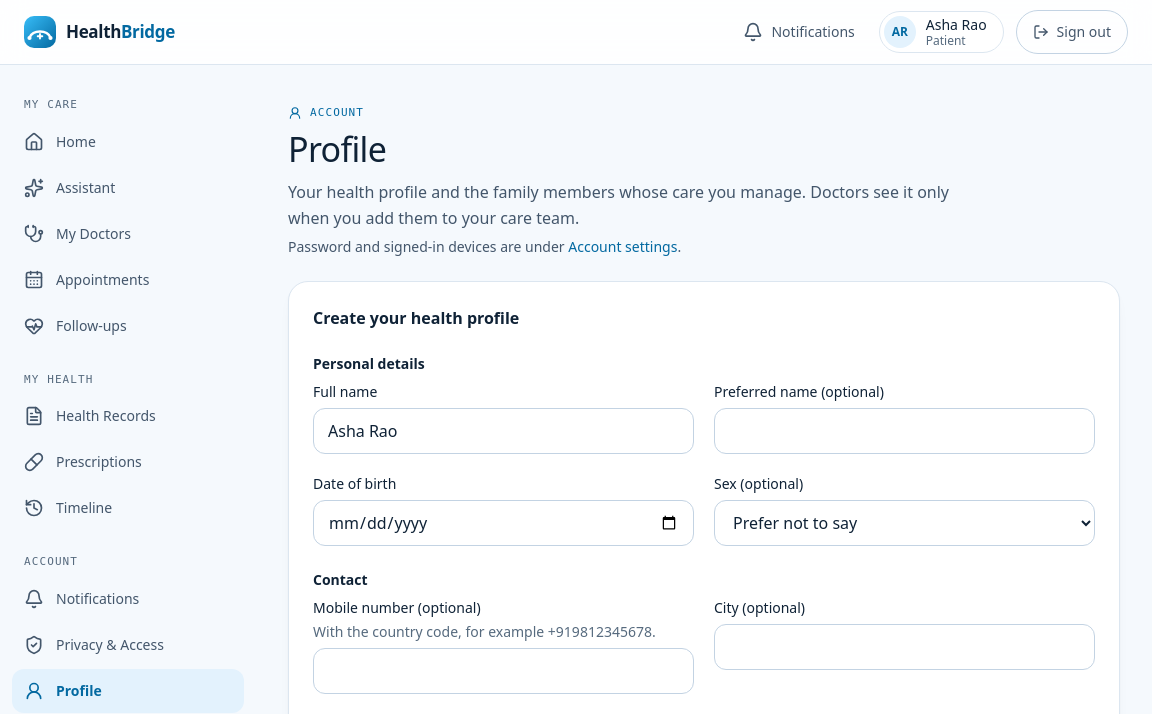
Test: patient profile › requires both emergency contact name and phone
Expected: the heading "Create your health profile" is shown, [313,307,519,329]
Type "1990-05-14" into the date field labelled "Date of birth" at [504, 523], box [313,500,694,546]
(page scrolled)
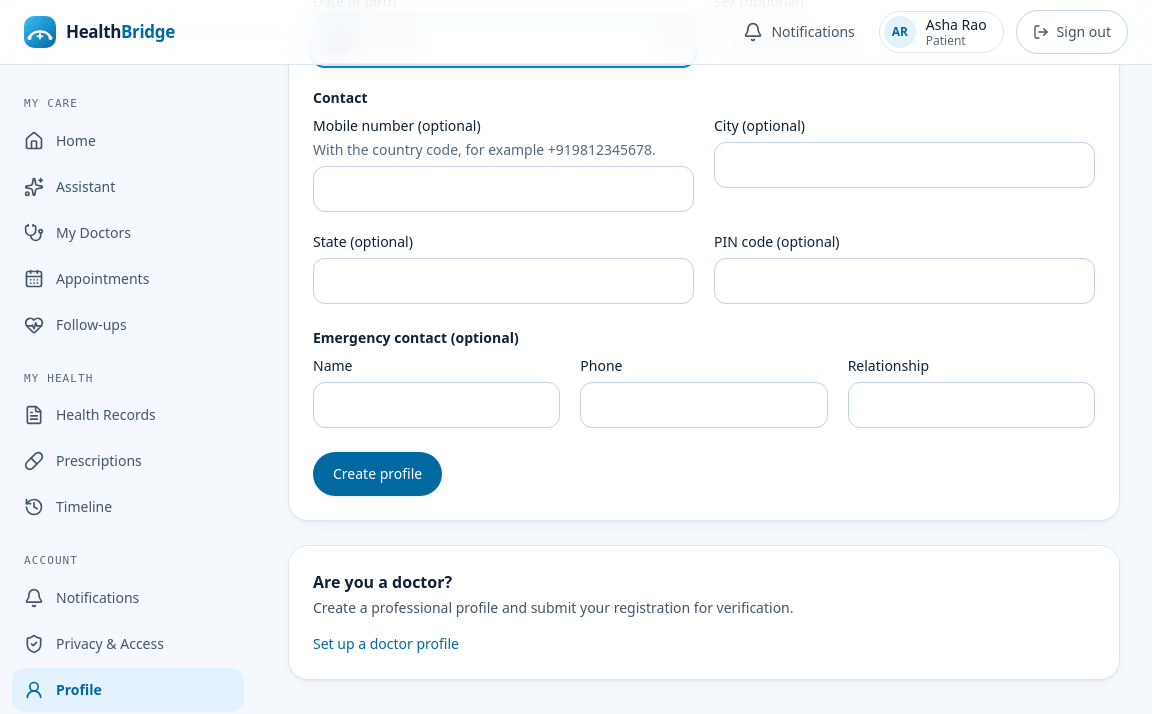
Type "Ravi" into the field labelled "Name" at [437, 405], box [313,382,560,428]
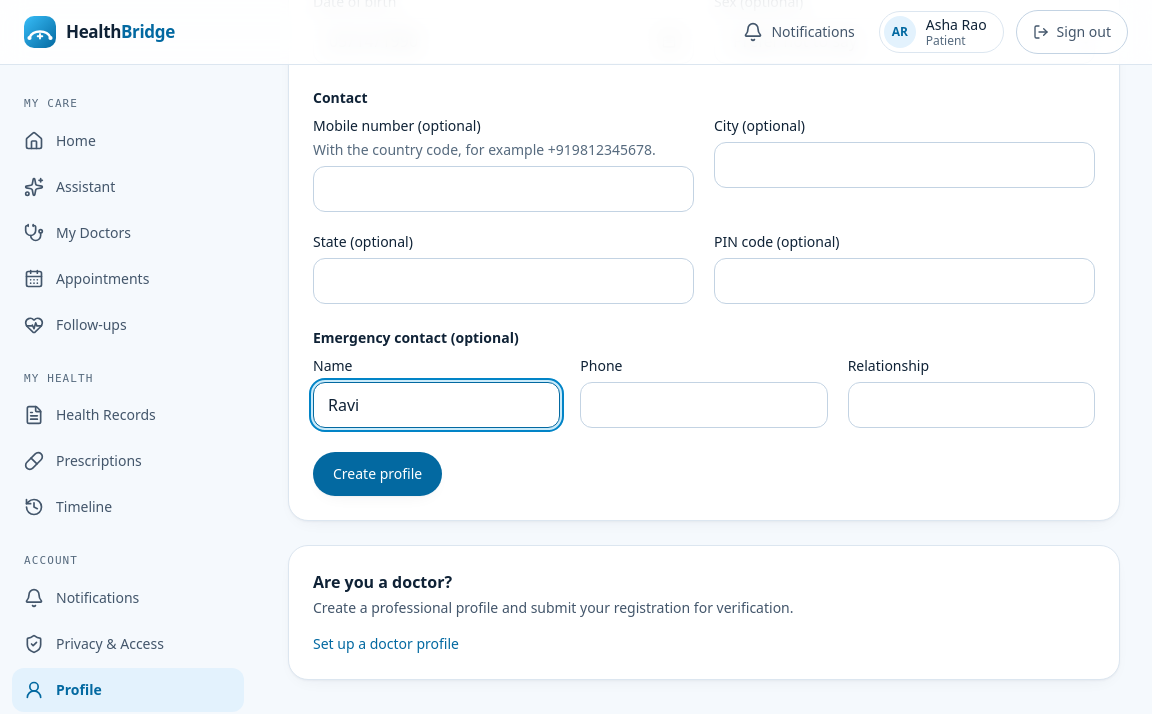
Click the button "Create profile" at [378, 474], box [313,452,442,496]
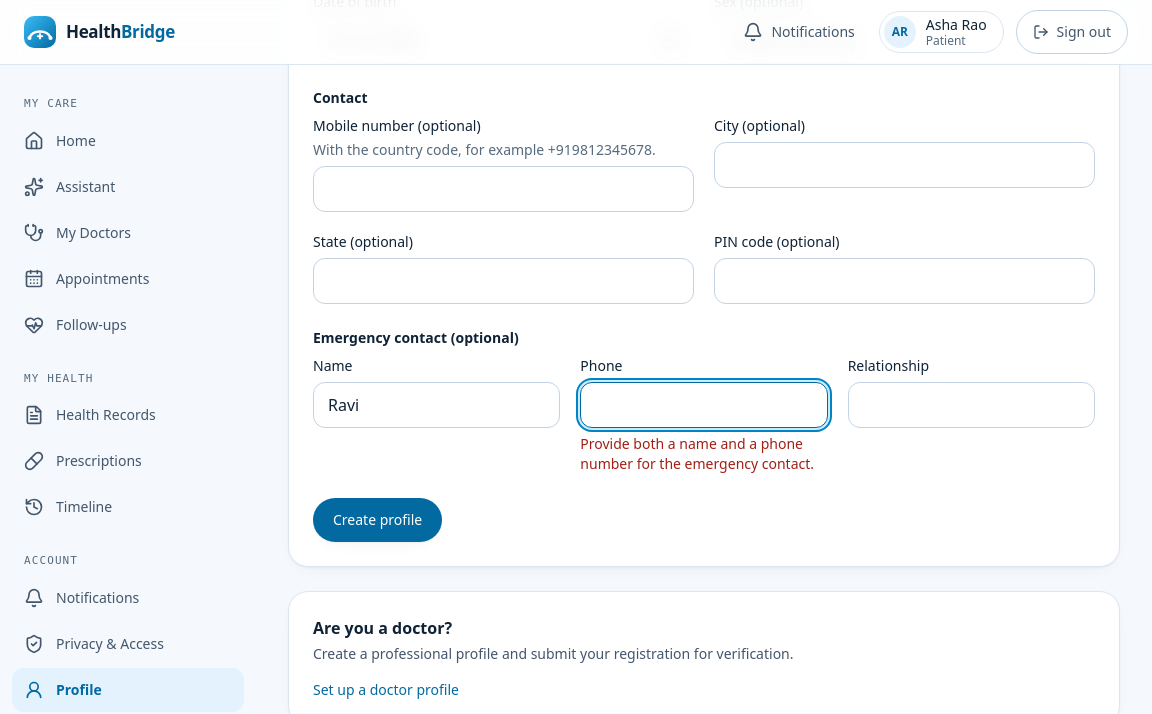
Now the text "both a name and a phone number" is shown, box [580,434,814,473]
